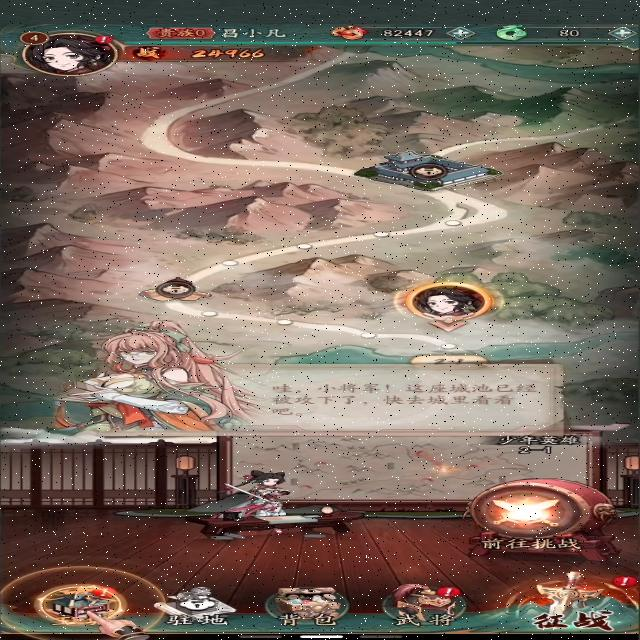hint-guide: (49, 321, 570, 441), (3, 564, 171, 640)
hint-reddot: (433, 584, 467, 599), (609, 572, 640, 588), (90, 34, 120, 46)
navigation-bag: (263, 583, 363, 629)
navigation-fight: (493, 570, 632, 631)
navigation-hero: (375, 580, 472, 628)
navigation-main: (29, 580, 134, 629)
navigation-role: (12, 26, 134, 82)
navigation-station-off: (149, 583, 255, 636)
operation-challenge: (463, 476, 609, 554)
